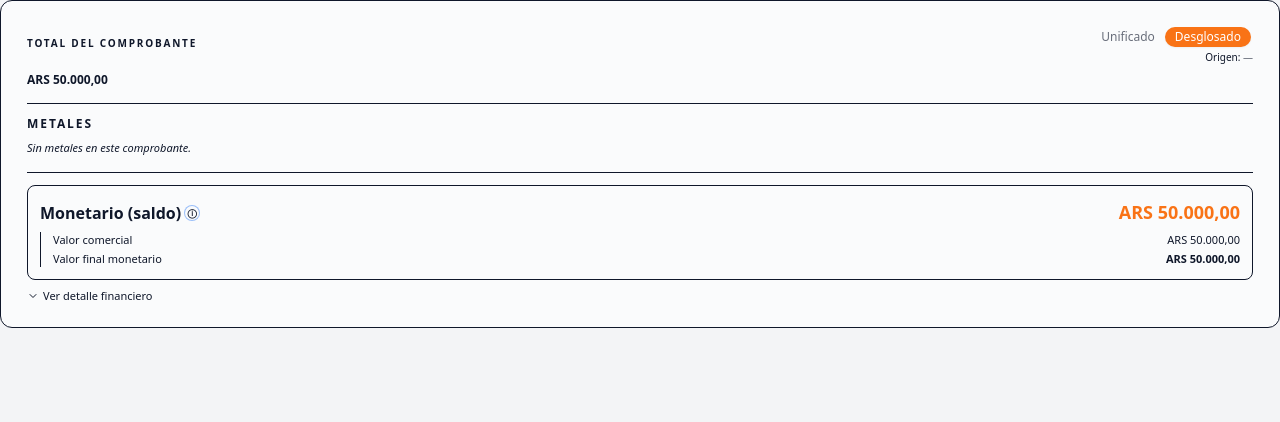
Scenario: TotalDelComprobanteCard — importe en el header de 'Total hechura' › (8) BREAKDOWN — importe del header siempre visible aunque el desglose esté cerrado (Etapa UX-premium v3)
This screenshot has width=1280, height=422.
Expected: the text with test id "total-card-monetary-header-amount" is shown, [1119,198,1240,226]
Click the button with test id "total-card-composicion-toggle".
click(90, 296)  # box [27,288,152,304]
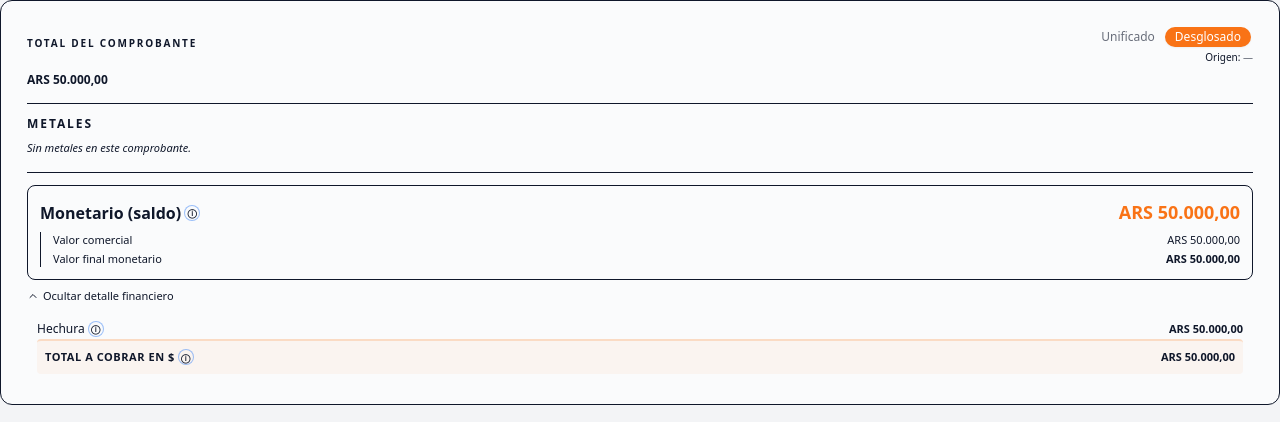
Expected: the element with test id "total-card-composicion-body" is shown, [27,312,1253,382]
